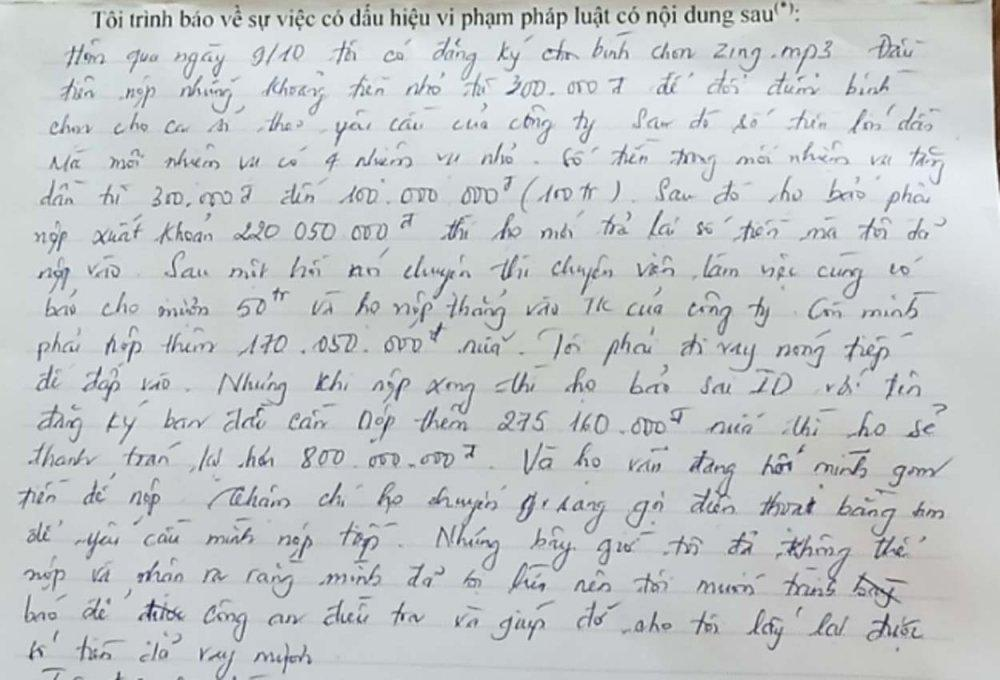text: (23, 588, 931, 655), (22, 514, 930, 575), (25, 441, 959, 500), (15, 472, 948, 531), (20, 555, 915, 613), (45, 137, 950, 191), (32, 206, 951, 258), (41, 287, 942, 339), (34, 399, 950, 449), (33, 246, 924, 297), (62, 28, 929, 80), (56, 65, 922, 117), (35, 323, 916, 373), (46, 101, 946, 149), (32, 360, 925, 408), (38, 172, 935, 218), (90, 0, 803, 31), (20, 627, 316, 680)
